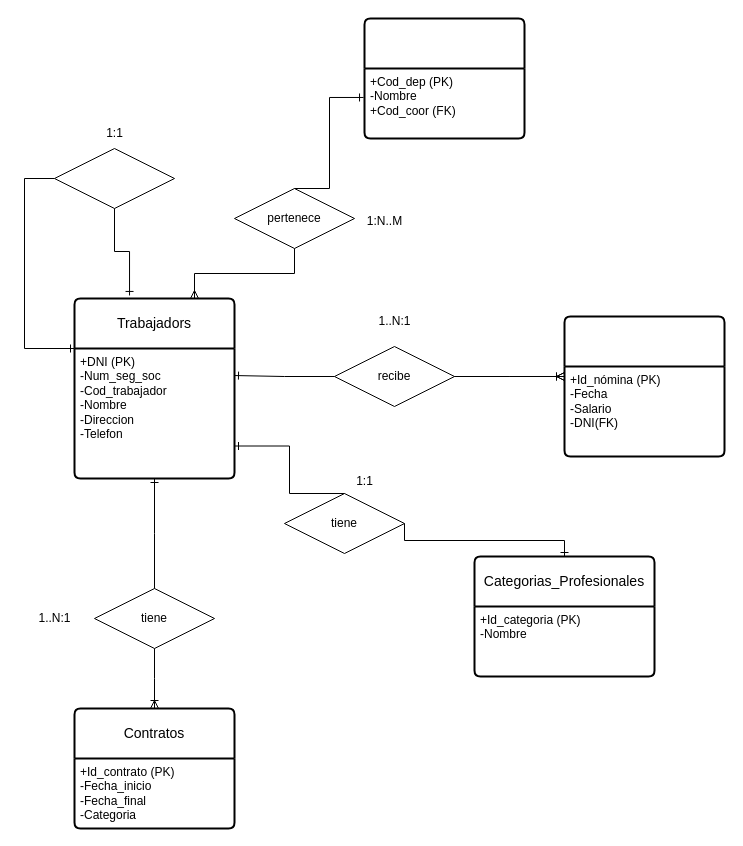
Some shapes in this 743 by 846 pixel diagram are drawn without their labels. The box of each missing label's shape, as (x1, y1, x2, y2) in pixels:
Departamientos: (363, 17, 525, 139)
es_responsable: (54, 148, 174, 208)
Nóminas: (563, 315, 725, 457)
